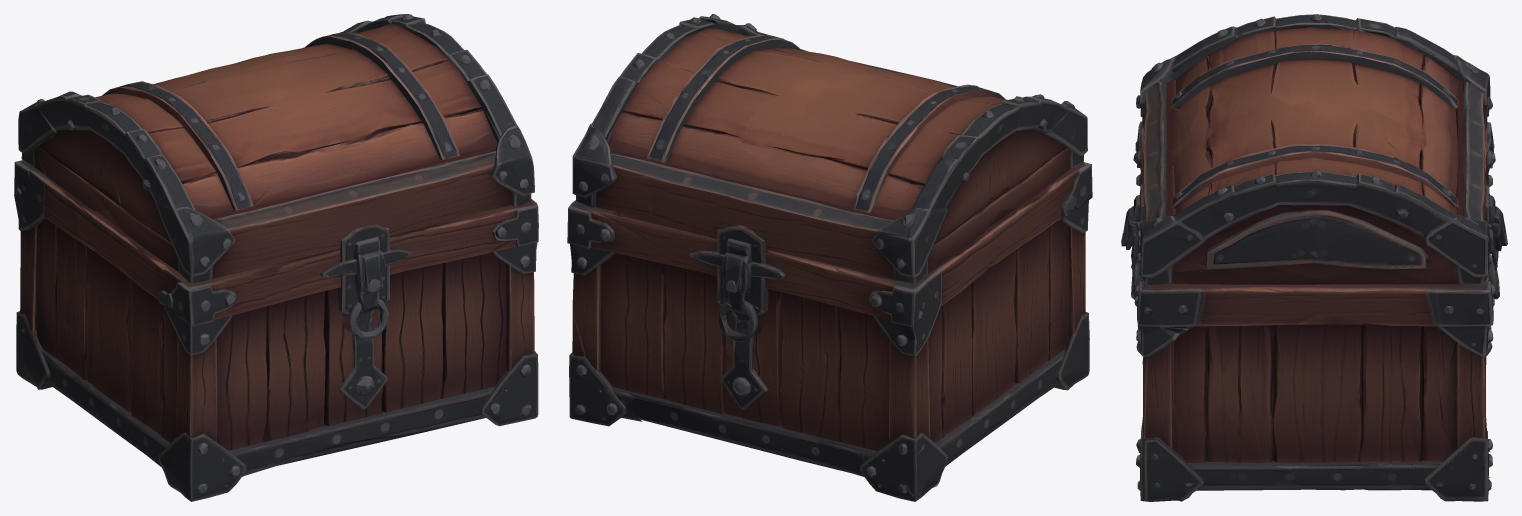
File: m_chest.glb
The picture shows the model from 3 angles, left to right: view 1: azimuth 30°, elevation 25°; view 2: azimuth 150°, elevation 25°; view 3: azimuth 270°, elevation 25°; orthographic projection.
Bounding box in the file's own units: 1.9 × 1.67 × 1.8.
Materials: 1 (1 with a texture image).
